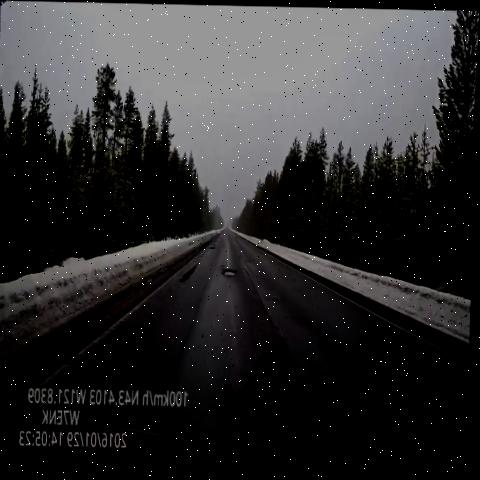pothole: (213, 377, 262, 429), (176, 256, 205, 295), (220, 253, 243, 284), (208, 238, 223, 255)
